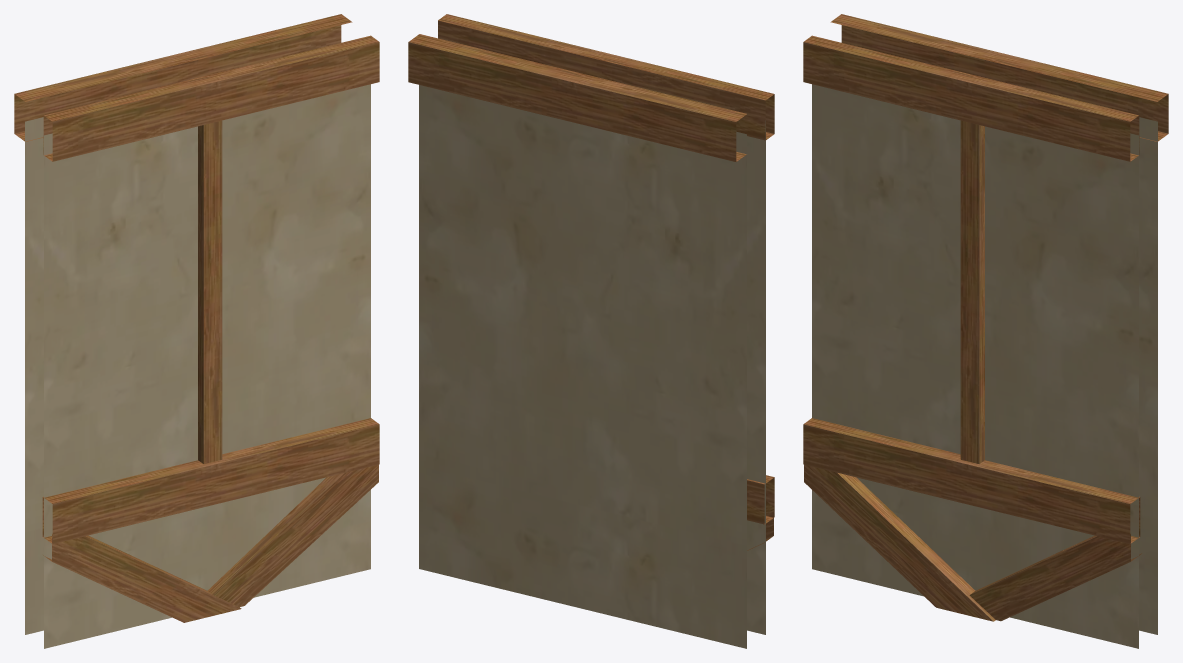
File: Wall_Plaster_Straight.gltf
The picture shows the model from 3 angles, left to right: view 1: azimuth 30°, elevation 25°; view 2: azimuth 150°, elevation 25°; view 3: azimuth 330°, elevation 25°; orthographic projection.
Visible parts, largest first — view 1: Wall_Plaster_Straight; view 2: Wall_Plaster_Straight; view 3: Wall_Plaster_Straight.
Part boxes in pixels (box(x1,y1,x2,y2)): Wall_Plaster_Straight: box(14, 14, 379, 648); Wall_Plaster_Straight: box(408, 14, 774, 648); Wall_Plaster_Straight: box(803, 14, 1168, 648).
Bounding box in the file's own units: 2 × 3.12 × 0.4066.
2 materials, 2 textured.
